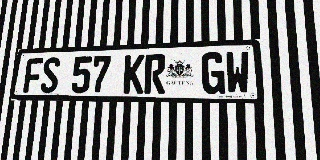5: (71, 56, 92, 93)
7: (90, 56, 111, 93)
F: (23, 58, 43, 93)
G: (202, 52, 225, 94)
K: (123, 54, 145, 94)
R: (144, 54, 166, 94)
S: (40, 57, 61, 93)
W: (225, 51, 251, 94)
